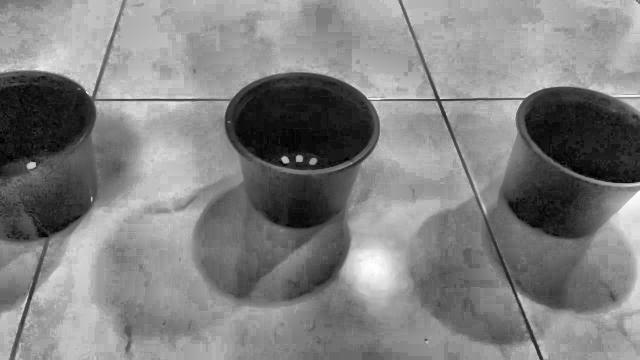pot: (224, 72, 380, 228), (501, 87, 640, 238), (0, 71, 97, 241)
